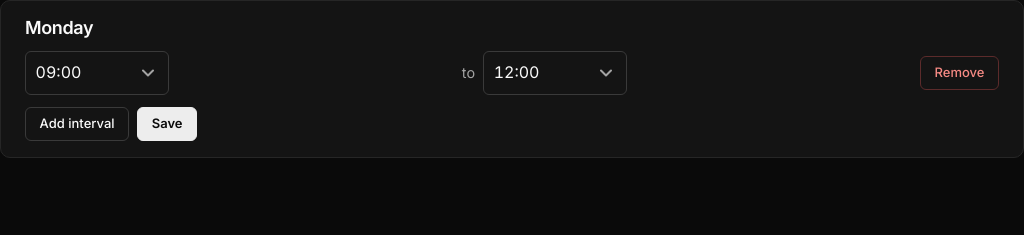
Test: BusinessHoursDayEditor › shows a server 409 inline and keeps the edited values
Select "11:00" in the dropdown named "Monday interval 1 closes" at (555, 73), box [483,51,627,95]
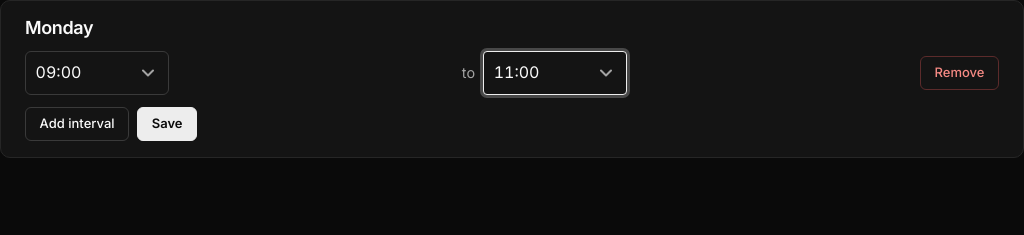
Click the button named "Save Monday hours" at (167, 124), box [137,107,197,141]
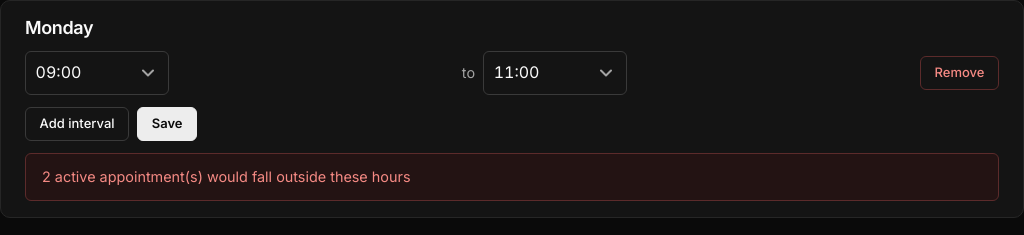
Expected: the message shows "active appointment(s)", [42,168,410,185]
